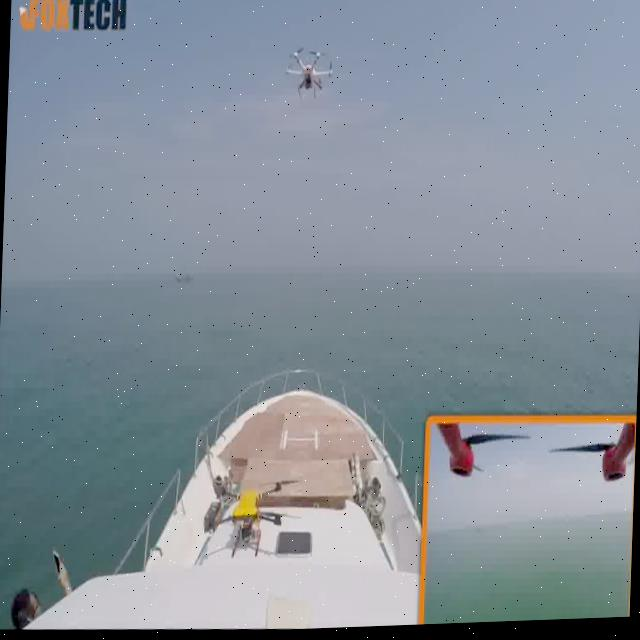drone: (282, 41, 336, 105)
